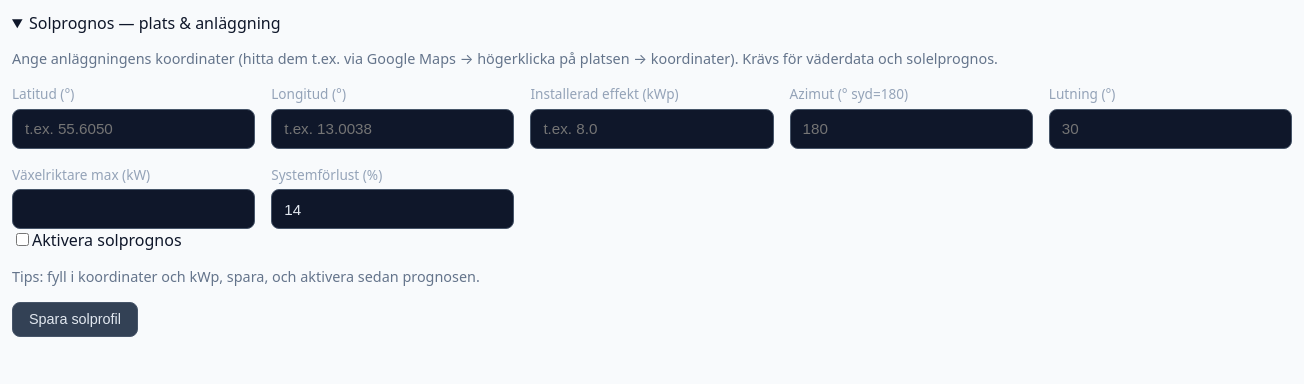
Test: SolarSiteConfigPanel › shows save error on API failure
This screenshot has width=1304, height=384.
Expected: the number field with placeholder "t.ex. 55.6050" is shown, [12, 109, 255, 149]
Step 1. Click the button "Spara solprofil" → (75, 319), box [12, 302, 138, 337]
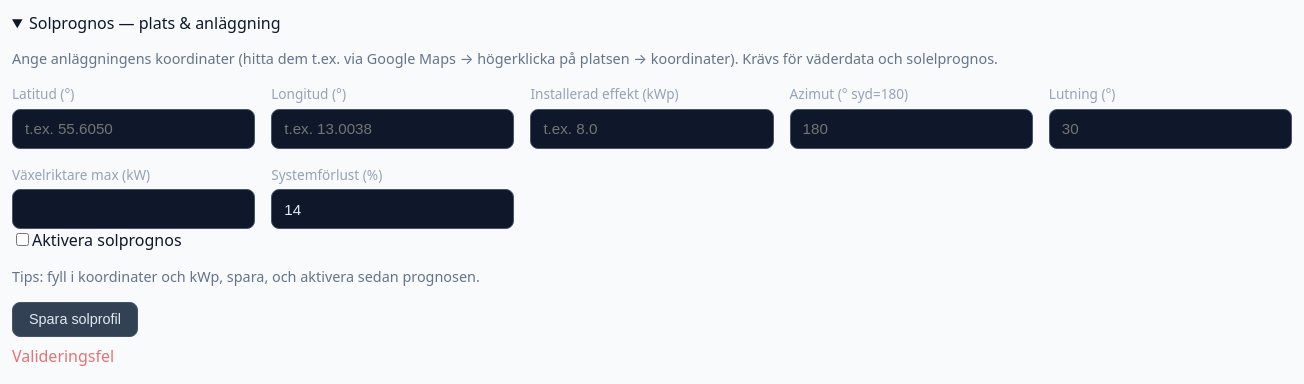
Expected: the text "Valideringsfel" is shown, [12, 345, 114, 367]
